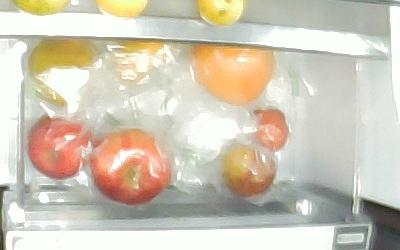apple_vinyl: (86, 127, 170, 206), (25, 111, 93, 179)
grapefruit_vinyl: (190, 45, 274, 105)
persimmon_vinyl: (26, 36, 100, 106), (107, 39, 168, 84)
prune_vinyl: (222, 137, 277, 197), (249, 109, 289, 153)
